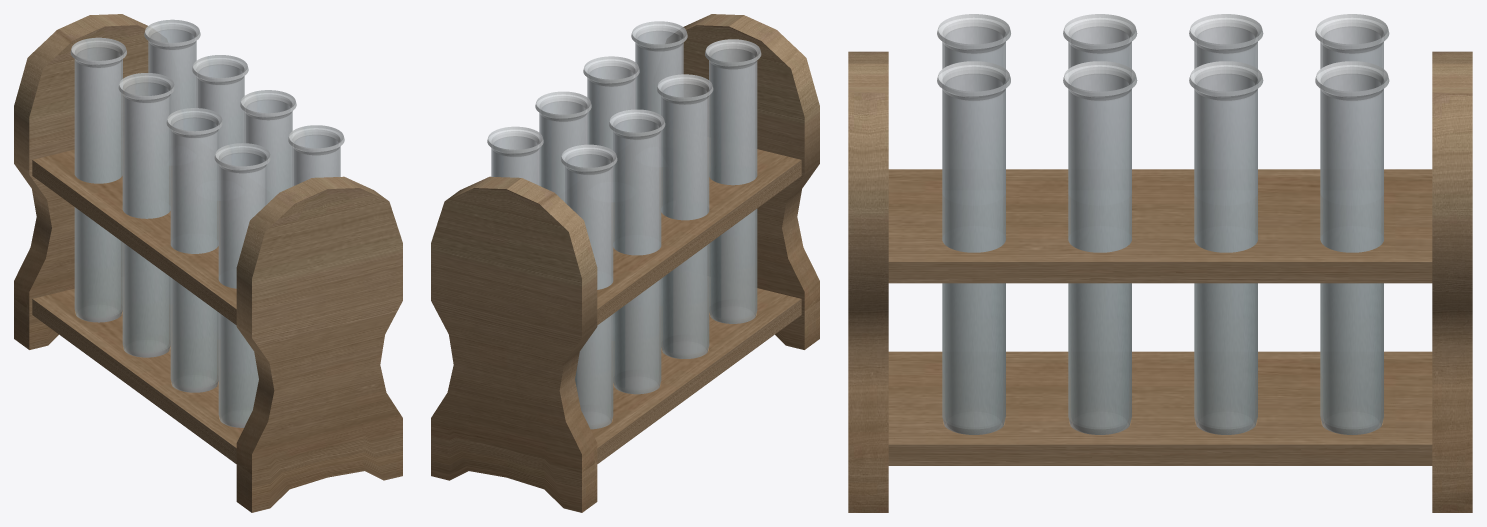
The model's file is test_tube_rack.glb.
3 views of the same model, side by side, from view 1: azimuth 30°, elevation 25°; view 2: azimuth 150°, elevation 25°; view 3: azimuth 270°, elevation 25° (orthographic). The views are drawn at different scales.
Visible parts, largest first — view 1: Cube, Cylinder; view 2: Cube, Cylinder; view 3: Cube, Cylinder.
Boxes of the visible parts, <box> form: Cube: <box>14,14,402,512</box>; Cylinder: <box>70,19,344,427</box>; Cube: <box>431,14,819,512</box>; Cylinder: <box>487,21,761,429</box>; Cube: <box>848,51,1472,512</box>; Cylinder: <box>937,14,1389,434</box>.
Size of the model in its own units: 2.27 by 4.52 by 6.2.
Materials: 2 (2 with a texture image).
